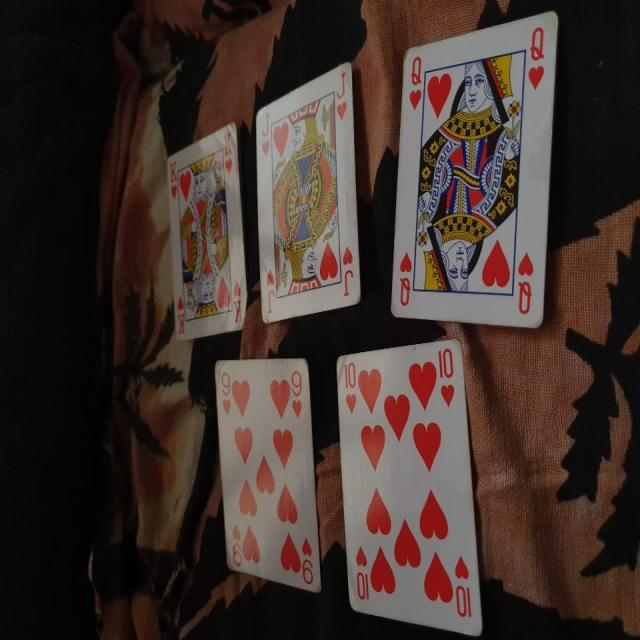10 Hearts: (332, 336, 489, 639)
9 Hearts: (208, 347, 329, 601)
J Hearts: (255, 56, 366, 327)
K Hearts: (159, 120, 252, 348)
Q Hearts: (381, 5, 564, 332)
